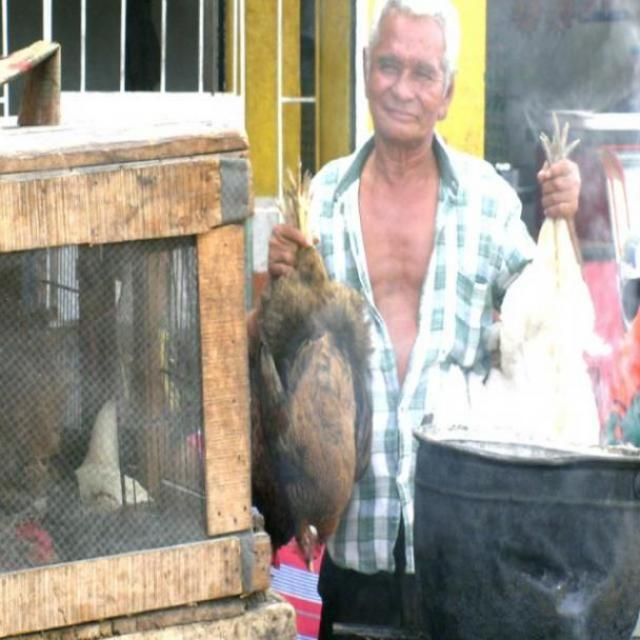Chicken: (233, 161, 371, 594), (480, 104, 612, 446), (69, 385, 150, 535), (0, 510, 56, 575)
